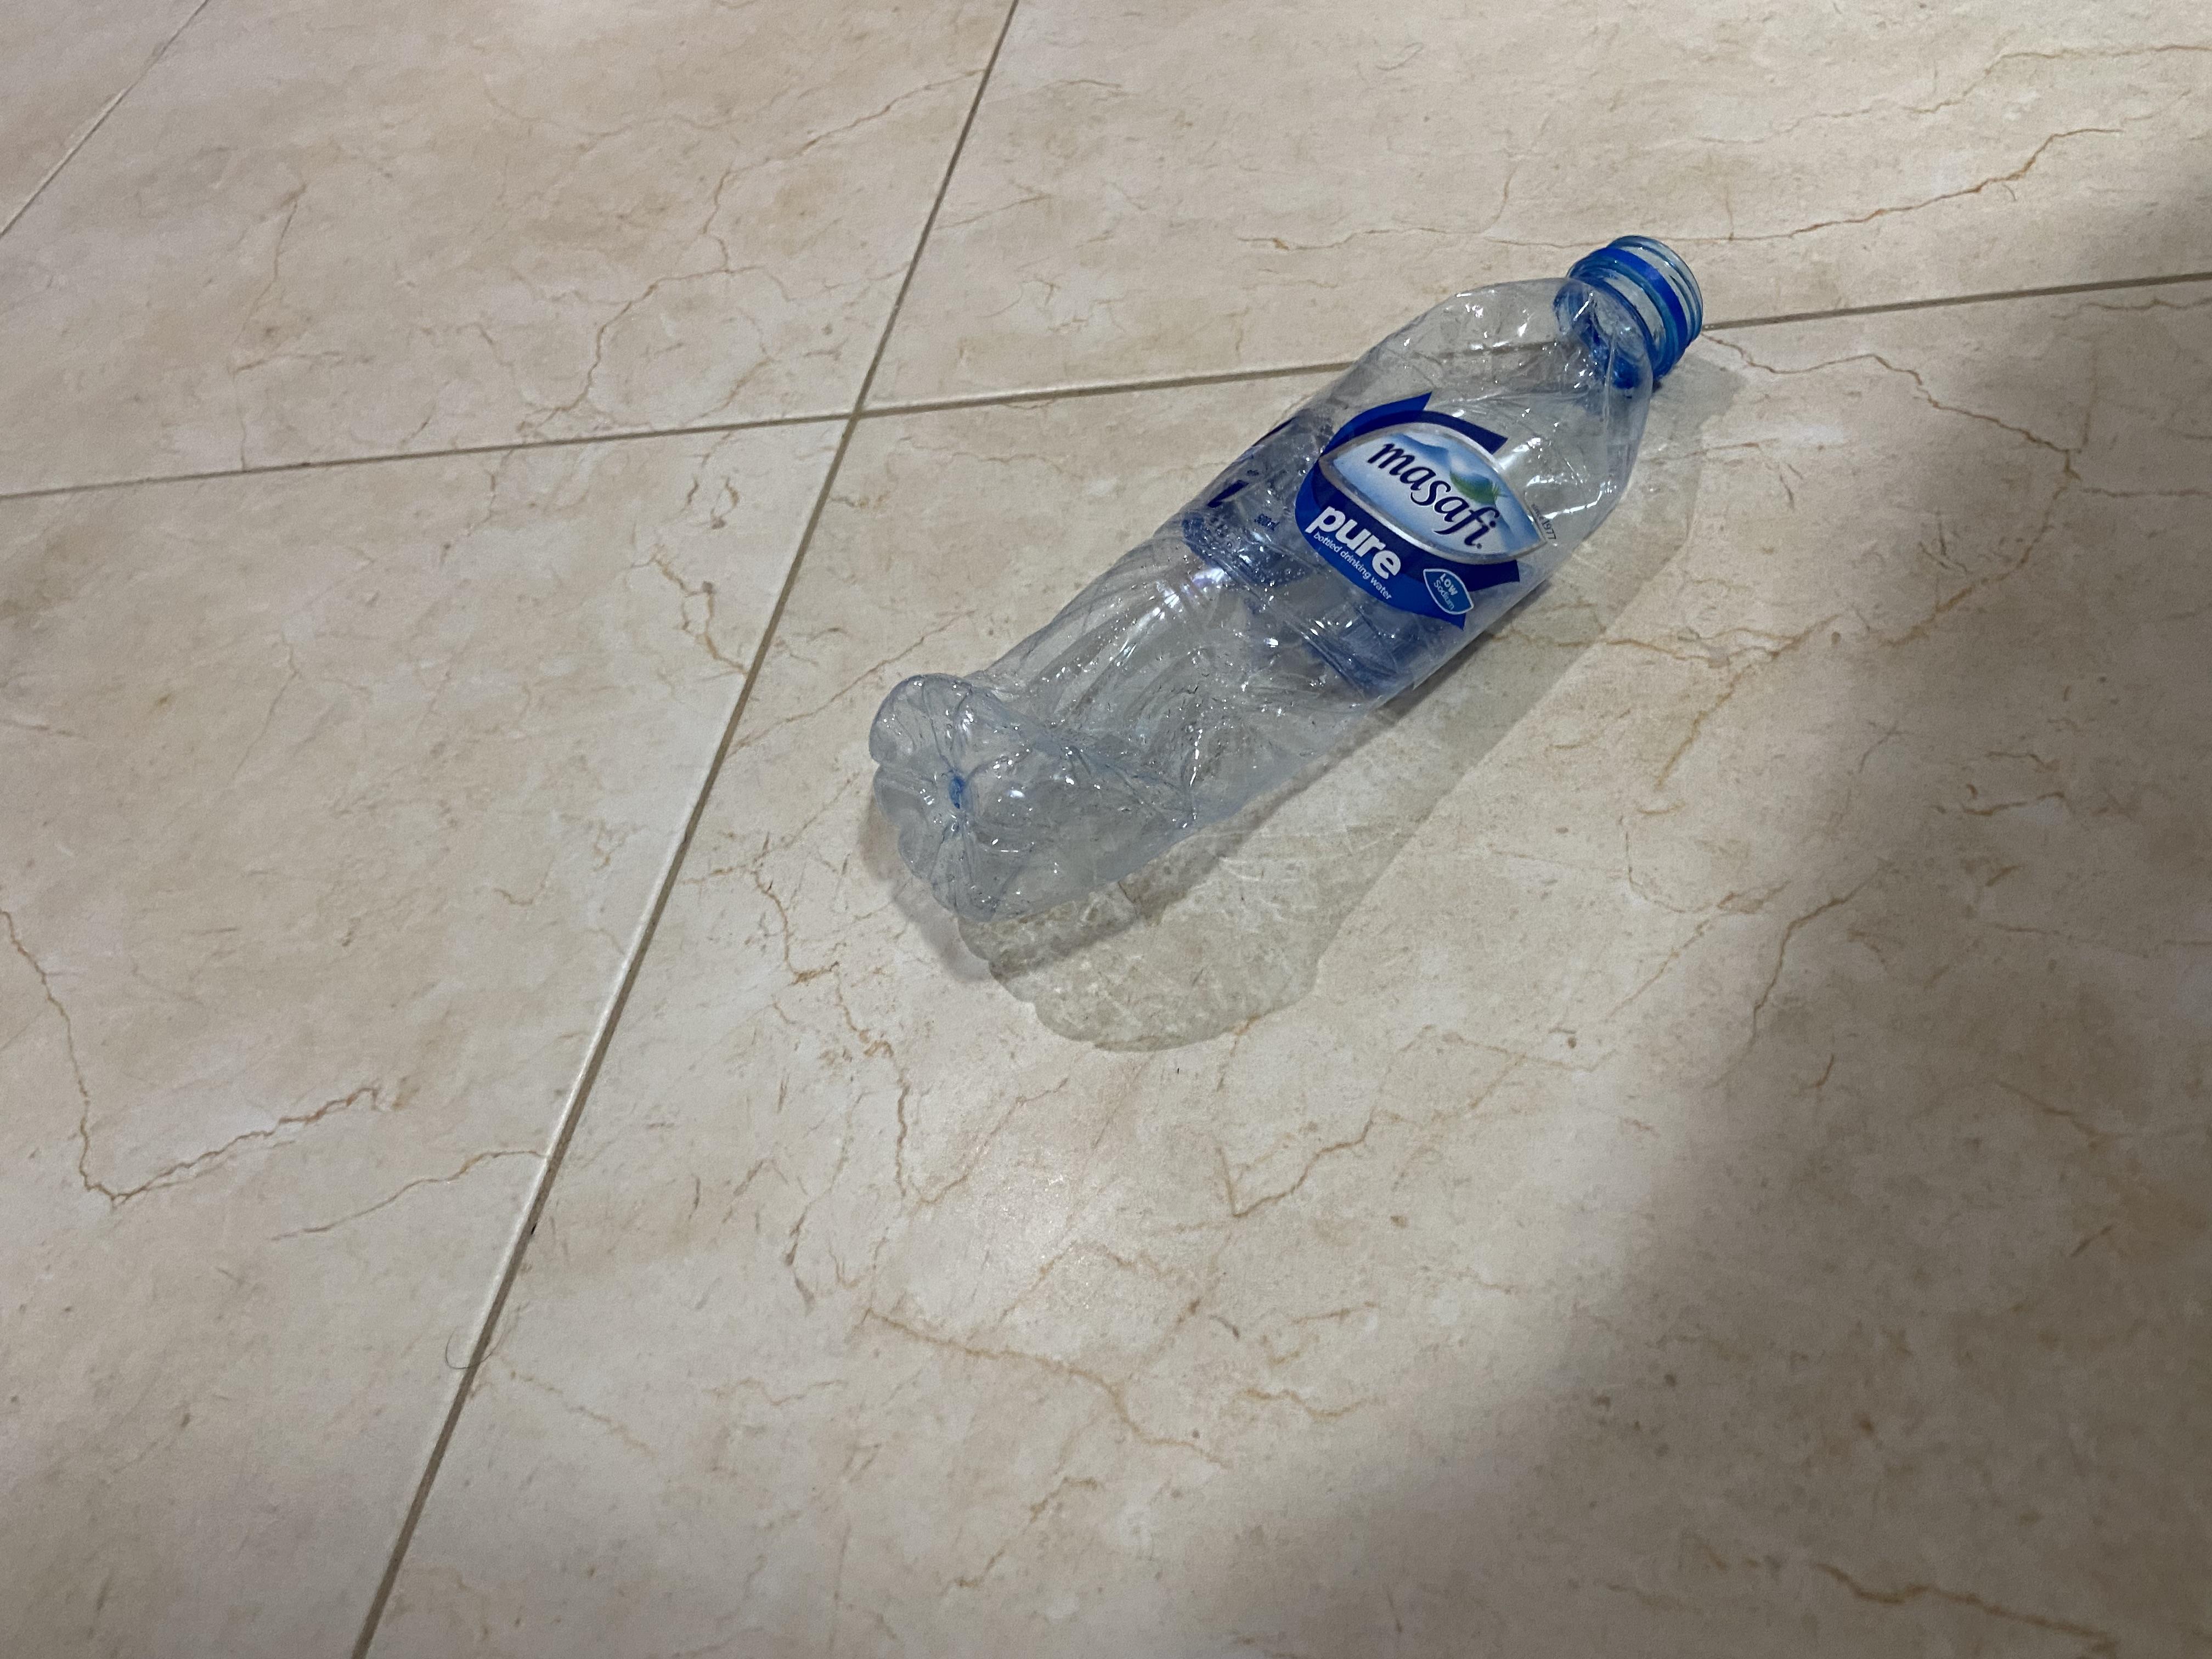bottle: (932, 631, 1928, 1305)
